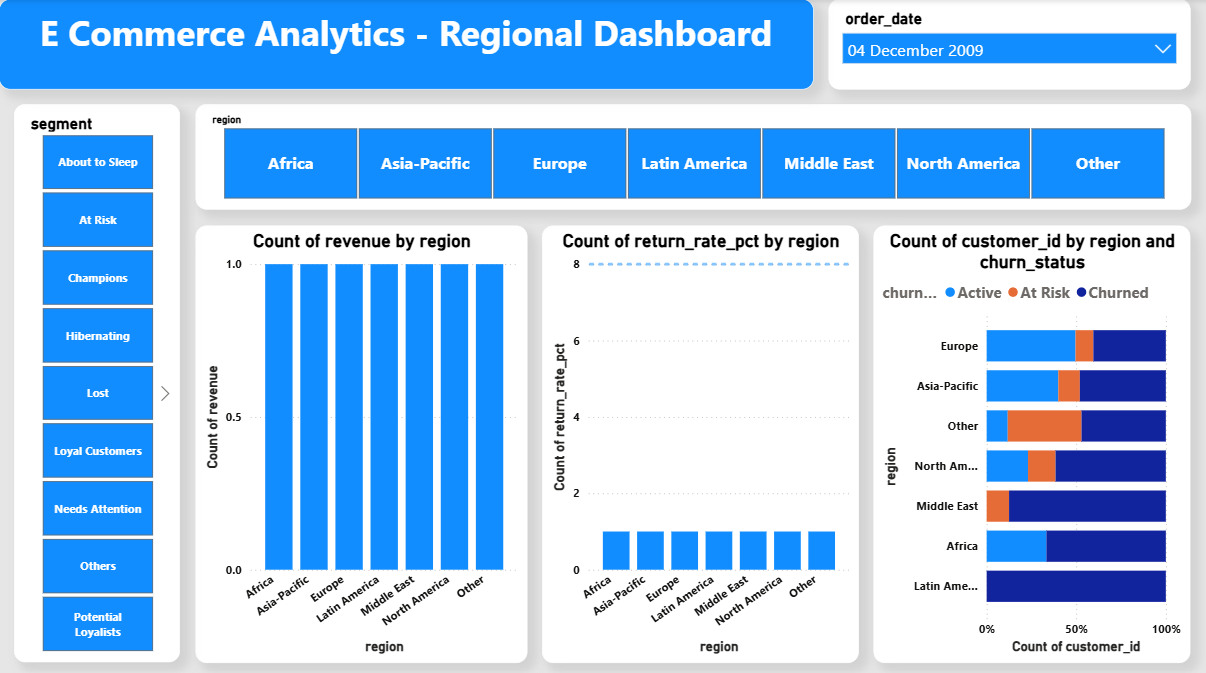

The page's visual inventory and layout, read from the dashboard file:
{"tool":"powerbi","page":{"name":"Regional","canvas":[1280,720],"ordinal":4},"visuals":[{"type":"clusteredColumnChart","fields":{"Category":["region_performance.region"],"Y":["CountNonNull(region_performance.revenue)"]},"box":[208,240,352,464],"z":0},{"type":"clusteredColumnChart","fields":{"Category":["region_performance.region"],"Y":["CountNonNull(region_performance.return_rate_pct)"]},"box":[576,240,336,464],"z":1000},{"type":"hundredPercentStackedBarChart","fields":{"Category":["churn_risk.region"],"Y":["CountNonNull(churn_risk.customer_id)"],"Series":["churn_risk.churn_status"]},"box":[928,240,336,464],"z":2000},{"type":"slicer","fields":{"Values":["orders.order_date"]},"box":[880,0,384,96],"z":3000},{"type":"slicer","fields":{"Values":["customers.region"]},"box":[208,112,1056,112],"z":4000},{"type":"slicer","fields":{"Values":["rfm_segments.segment"]},"box":[16,112,176,592],"z":5000},{"type":"textbox","box":[0,0,864,96],"z":5001}]}

Visuals, with their boxes in screenshot pixels (x1, y1, x2, y2), scaled from the page's 1280x720 canvas onto the 1206x673 screenshot:
clusteredColumnChart - region_performance.region x CountNonNull(region_performance.revenue): left=196, top=224, right=528, bottom=658
clusteredColumnChart - region_performance.region x CountNonNull(region_performance.return_rate_pct): left=543, top=224, right=859, bottom=658
hundredPercentStackedBarChart - churn_risk.region x CountNonNull(churn_risk.customer_id): left=874, top=224, right=1191, bottom=658
slicer - orders.order_date: left=829, top=0, right=1191, bottom=90
slicer - customers.region: left=196, top=105, right=1191, bottom=209
slicer - rfm_segments.segment: left=15, top=105, right=181, bottom=658
textbox: left=0, top=0, right=814, bottom=90
